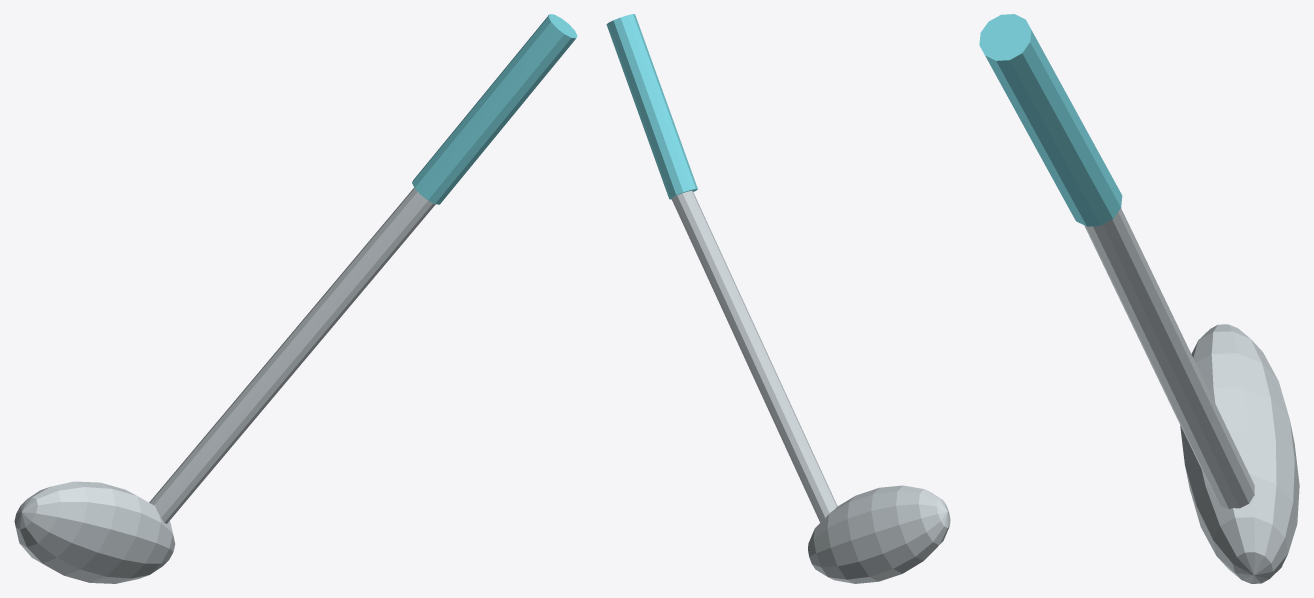
3 renders of one model, left to right at view 1: azimuth 30°, elevation 25°; view 2: azimuth 150°, elevation 25°; view 3: azimuth 270°, elevation 25°, orthographic. The views are drawn at different scales.
Visible parts, largest first — view 1: mesh_606337349, mesh_371793907, mesh_565866627; view 2: mesh_606337349, mesh_371793907, mesh_565866627; view 3: mesh_606337349, mesh_371793907, mesh_565866627.
Part boxes in pixels (x1,y1,x2,y2): mesh_606337349: [14, 481, 175, 583]; mesh_371793907: [149, 188, 435, 523]; mesh_565866627: [412, 14, 577, 204]; mesh_606337349: [808, 485, 950, 583]; mesh_371793907: [671, 190, 837, 522]; mesh_565866627: [606, 14, 697, 199]; mesh_606337349: [1180, 324, 1299, 583]; mesh_371793907: [1084, 208, 1254, 508]; mesh_565866627: [979, 14, 1122, 226].
Bounding box in the file's own units: 76.1 × 80.9 × 29.16.
